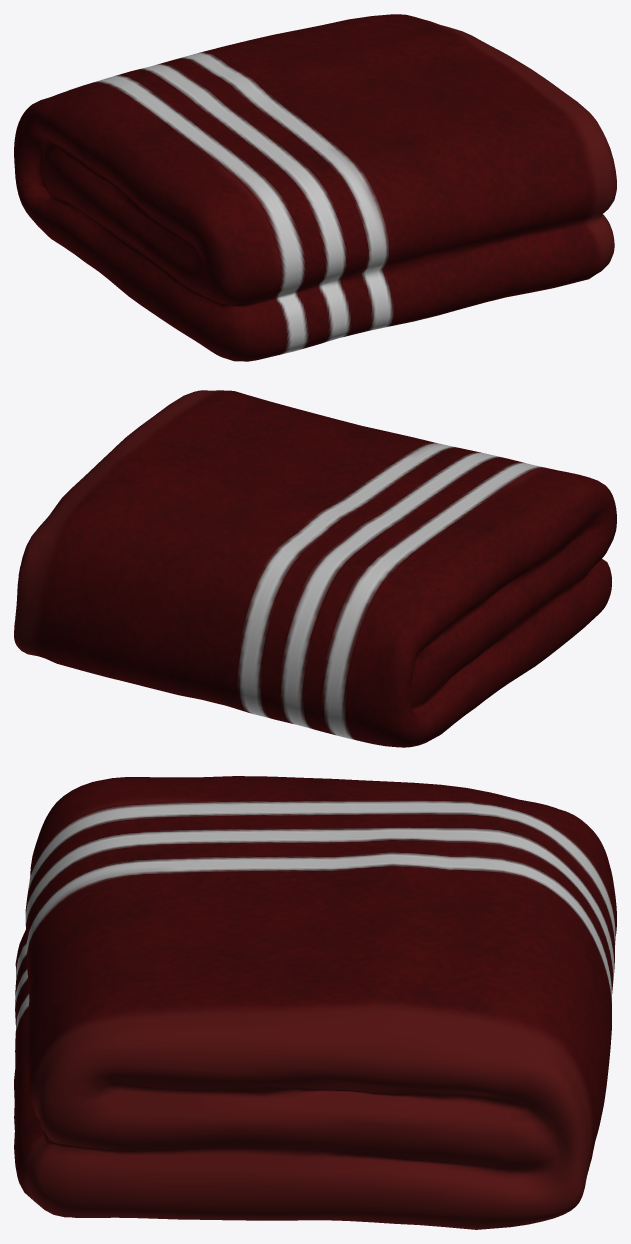
Rendered from individual_towel_4.glb.
The picture shows the model from 3 angles, top to bottom: view 1: azimuth 30°, elevation 25°; view 2: azimuth 150°, elevation 25°; view 3: azimuth 270°, elevation 25°; orthographic projection. The views are drawn at different scales.
Visible parts, largest first — view 1: SM_Towel_4_0; view 2: SM_Towel_4_0; view 3: SM_Towel_4_0.
Part boxes in pixels (x1,y1,x2,y2): SM_Towel_4_0: [14, 14, 616, 361]; SM_Towel_4_0: [14, 390, 616, 747]; SM_Towel_4_0: [14, 776, 616, 1229].
Size of the model in its own units: 0.0825 by 0.0301 by 0.076.
1 material, 1 textured.
